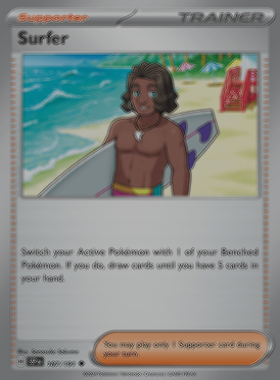Surfer: (0, 0, 280, 380)
